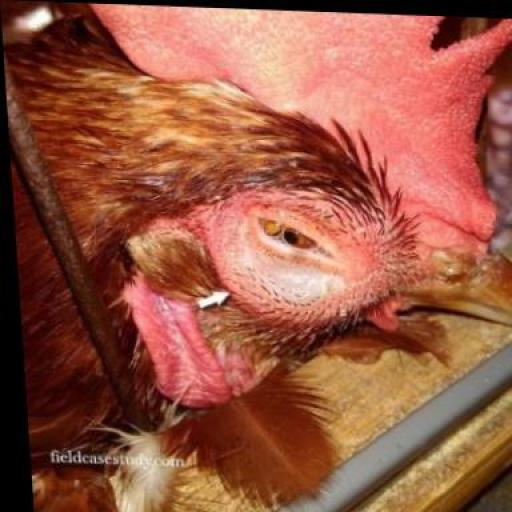disease: (209, 175, 385, 325)
